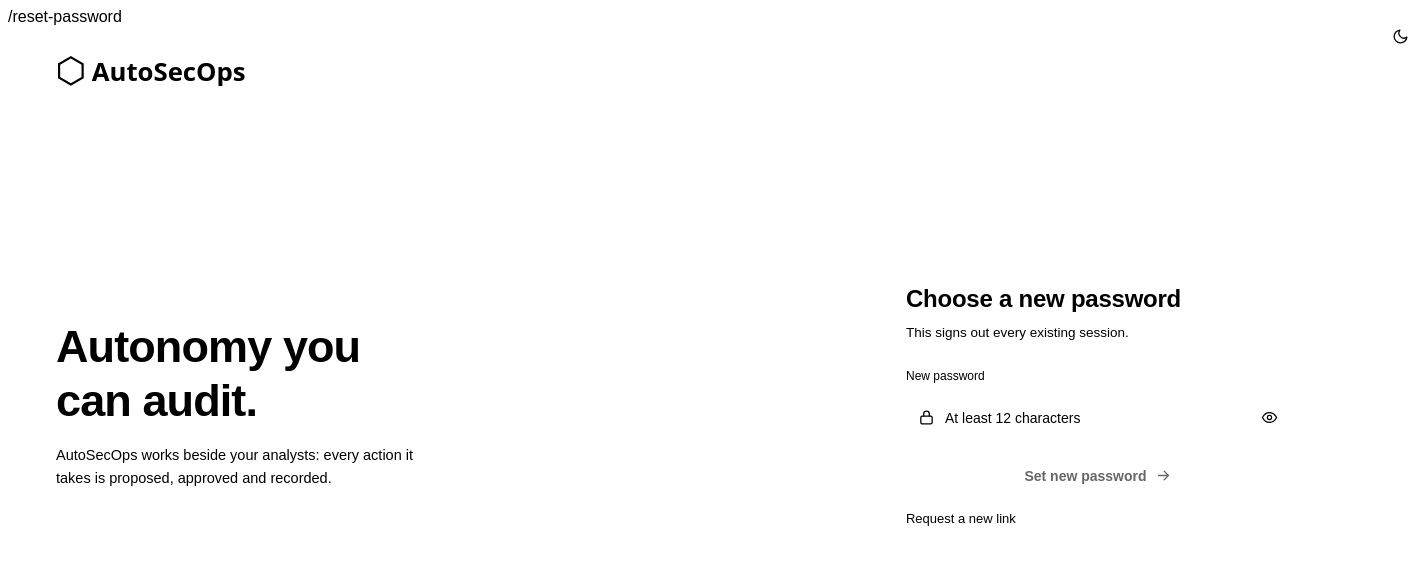
Scenario: ResetPasswordScreen › keeps the form for a retry when the API is unreachable
Type "a-long-new-passphrase" into the password field labelled "New password" at (1098, 418), box x1=906 y1=399 x2=1290 y2=437
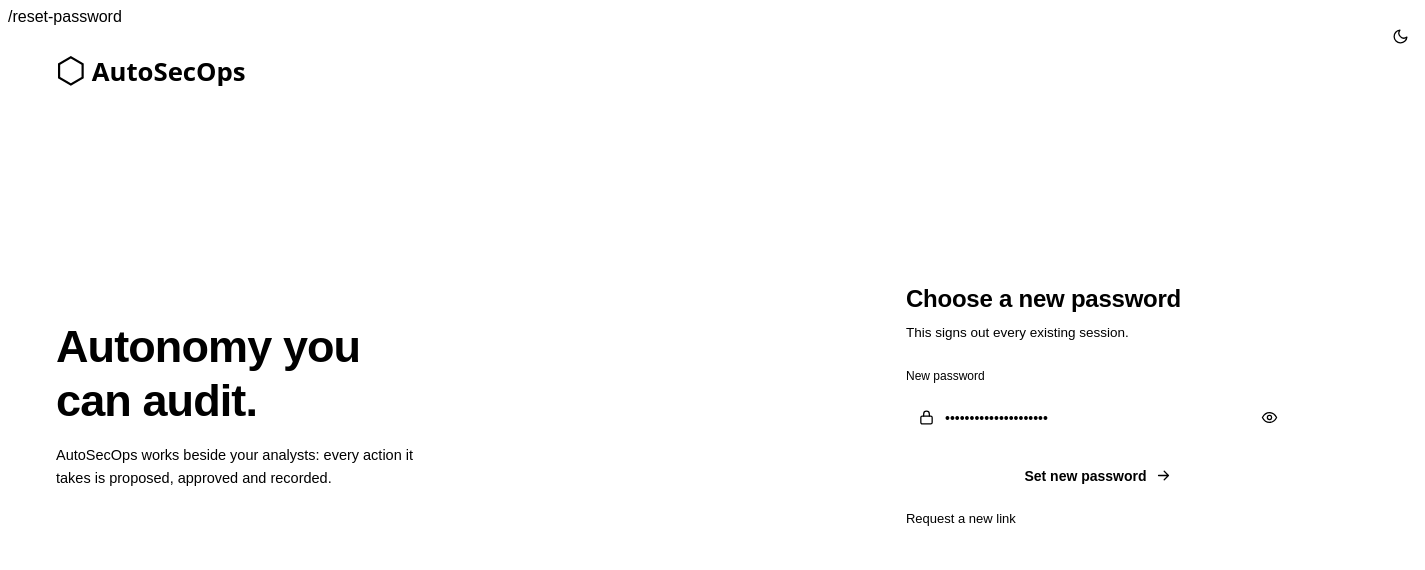
Click the button "Set new password" at (1098, 476), box x1=906 y1=453 x2=1290 y2=499
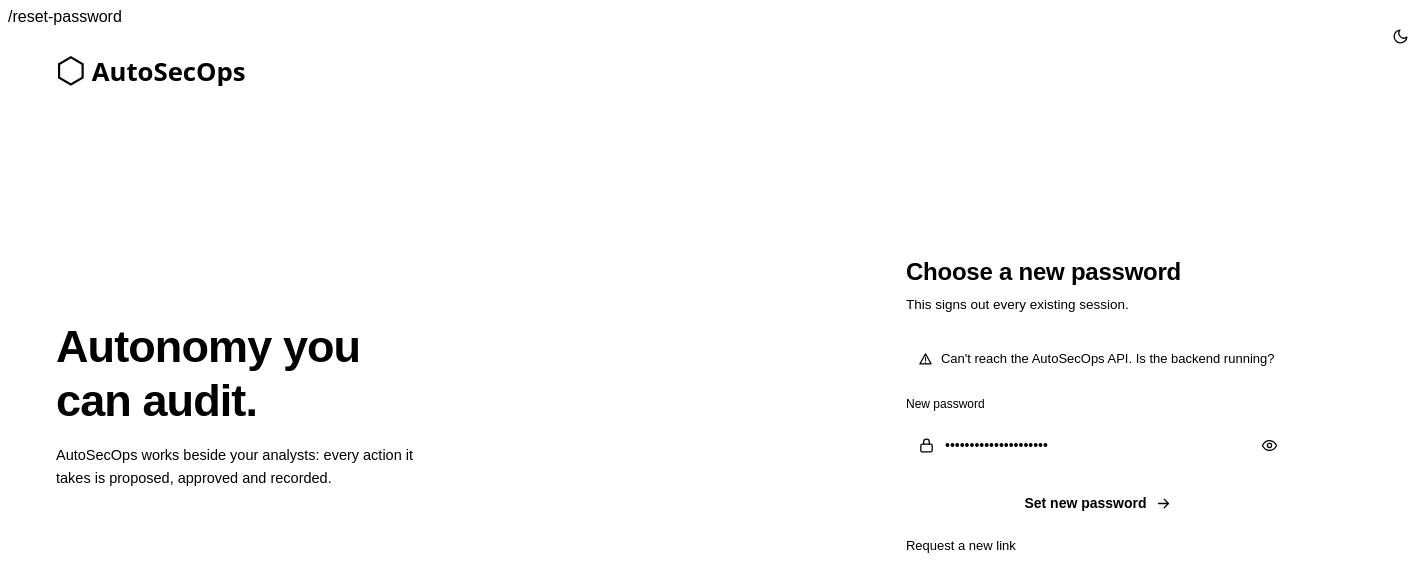
Result: the message shows "Can't reach the AutoSecOps API" at x1=941 y1=351 x2=1274 y2=366
